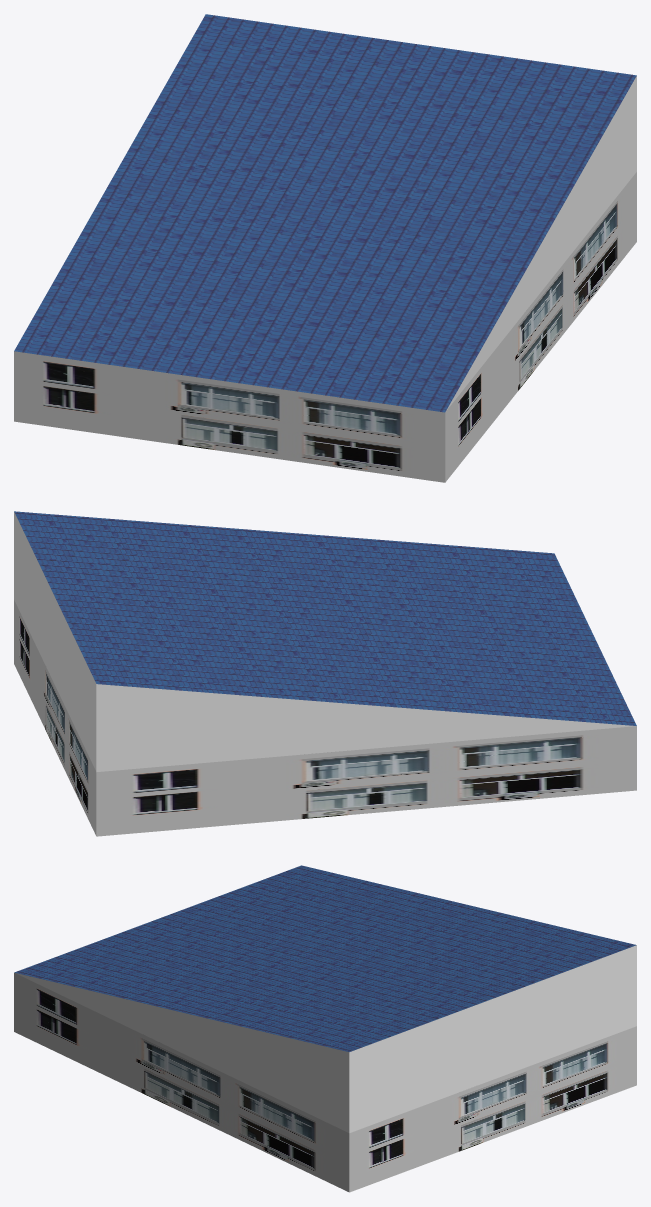
3 views of the same model, one above another, from view 1: azimuth 30°, elevation 25°; view 2: azimuth 150°, elevation 25°; view 3: azimuth 270°, elevation 25° (orthographic). The views are drawn at different scales.
Parts seen in each view (by area): view 1: CityEngineMaterial_10_m, CityEngineMaterial_9_m, CityEngineMaterial_3_m; view 2: CityEngineMaterial_10_m, CityEngineMaterial_9_m, CityEngineMaterial_3_m; view 3: CityEngineMaterial_10_m, CityEngineMaterial_9_m, CityEngineMaterial_3_m.
Part boxes in pixels (left/top/right/bottom): CityEngineMaterial_10_m: left=14, top=14, right=636, bottom=412; CityEngineMaterial_9_m: left=14, top=172, right=636, bottom=482; CityEngineMaterial_3_m: left=446, top=76, right=636, bottom=410; CityEngineMaterial_10_m: left=14, top=511, right=636, bottom=725; CityEngineMaterial_9_m: left=14, top=600, right=636, bottom=836; CityEngineMaterial_3_m: left=14, top=512, right=635, bottom=772; CityEngineMaterial_10_m: left=14, top=865, right=636, bottom=1052; CityEngineMaterial_9_m: left=14, top=972, right=636, bottom=1192; CityEngineMaterial_3_m: left=15, top=945, right=636, bottom=1133.
Size of the model in its own units: 49.46 by 12.08 by 48.61.
